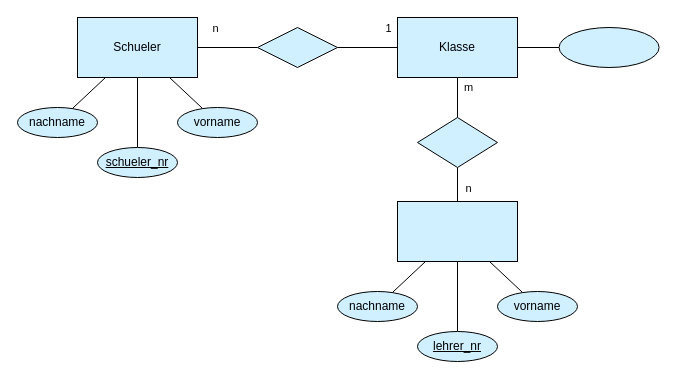
Some shapes in this 677 by 379 pixel diagram are drawn without their labels. The shapes that lost their labels are listed below. From the top down, each one's centre as x and y in pixels, then its label:
point (297, 47): gehört zu
point (608, 47): bezeichnung_id
point (457, 142): hat
point (457, 231): Lehrer
